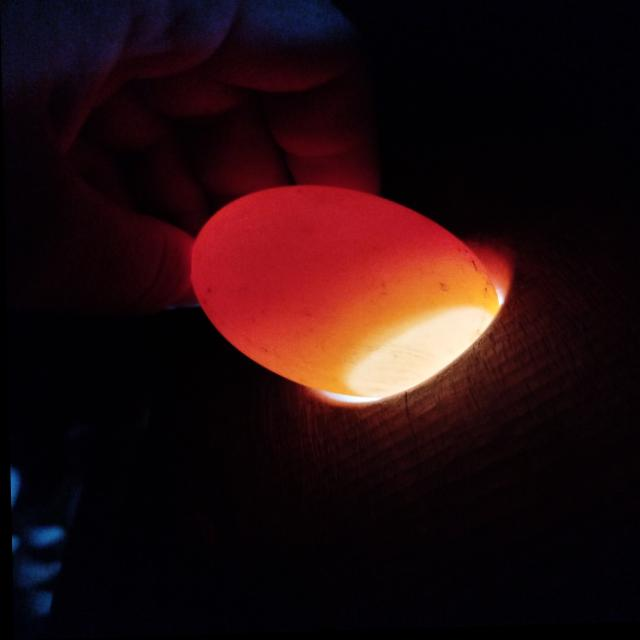Camara de Ar: (347, 307, 493, 400)
Gema Quebrada: (192, 196, 451, 351)
